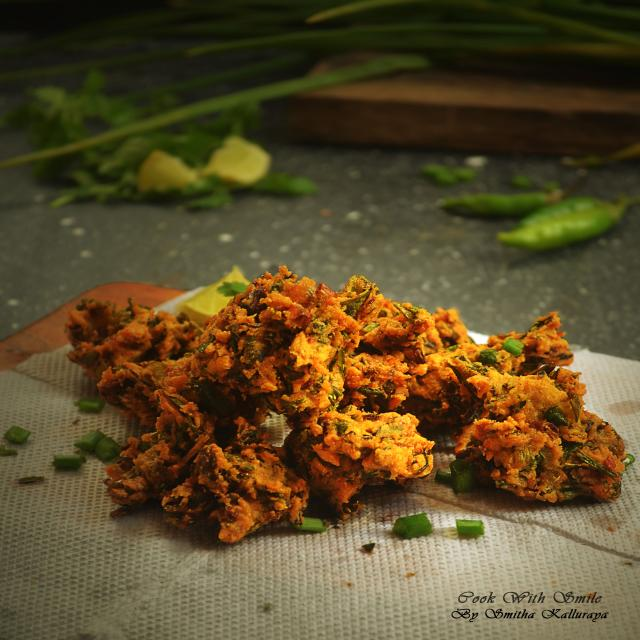BAJI: (66, 266, 626, 542)
